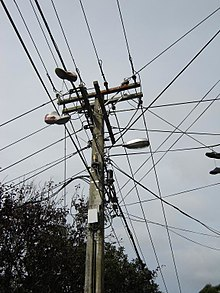utility_pole: (37, 61, 158, 196)
